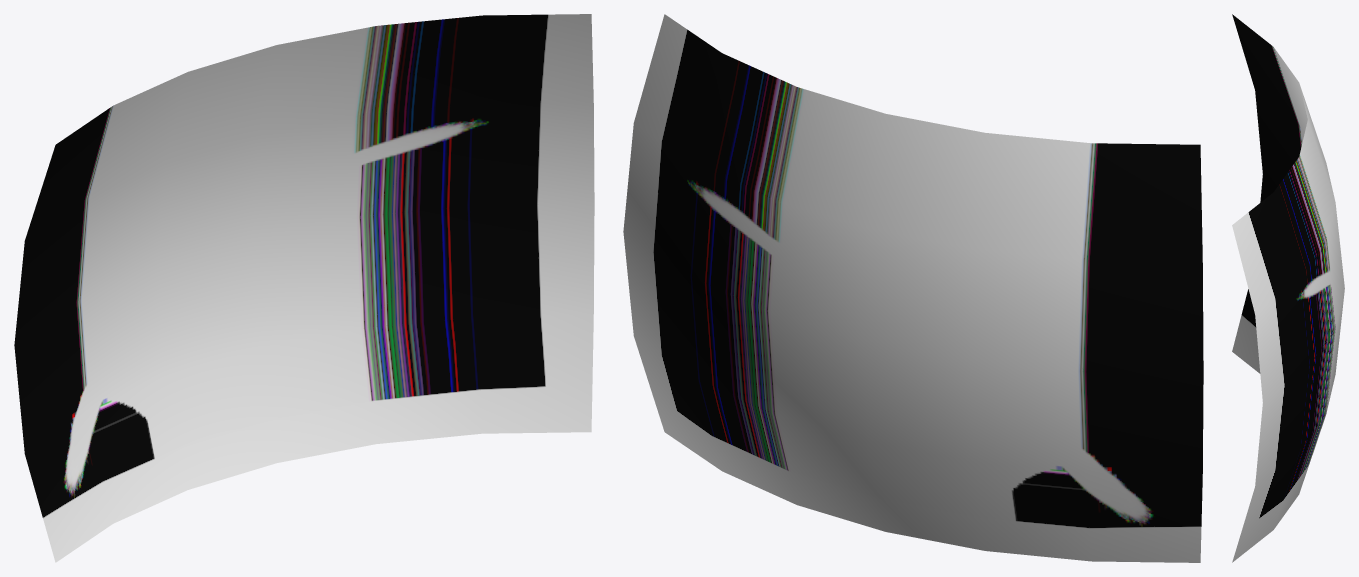
Rendered from Wisp_F.fbx.
3 views of the same model, side by side, from view 1: azimuth 30°, elevation 25°; view 2: azimuth 150°, elevation 25°; view 3: azimuth 270°, elevation 25° (orthographic). The views are drawn at different scales.
Parts seen in each view (by area): view 1: Wisp_F; view 2: Wisp_F; view 3: Wisp_F.
Part boxes in pixels (bbox=[...]): Wisp_F: bbox=[14, 14, 594, 562]; Wisp_F: bbox=[623, 14, 1203, 562]; Wisp_F: bbox=[1232, 14, 1344, 562].
Bounding box in the file's own units: 120 × 82.52 × 25.
